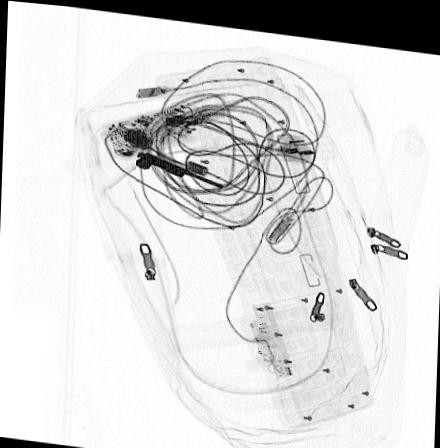Gun: (135, 148, 225, 184)
